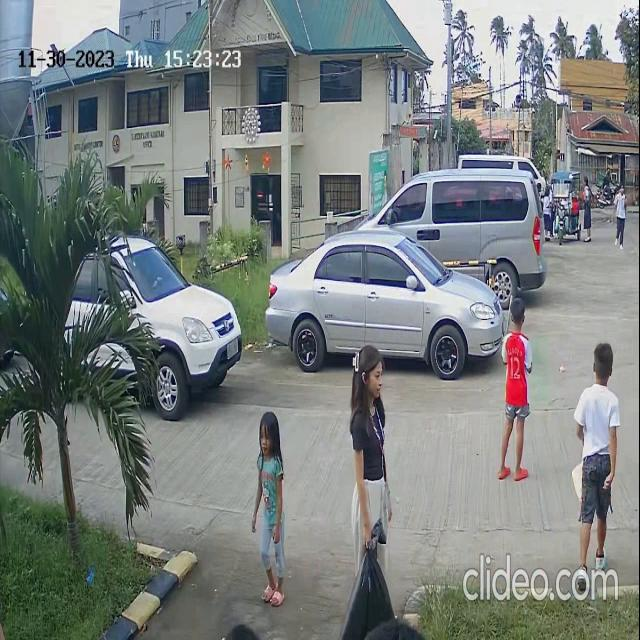garbage: (338, 533, 404, 640)
person: (497, 301, 532, 486), (253, 410, 286, 525), (578, 342, 618, 403), (351, 344, 386, 402), (614, 190, 628, 248)
